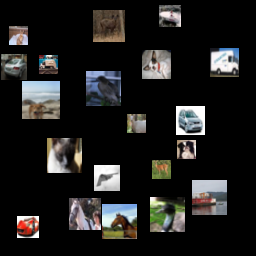airplane: (199, 210, 234, 245), (147, 122, 169, 144)
automobile: (52, 163, 81, 192), (177, 119, 199, 141), (139, 43, 158, 62)
bird: (85, 177, 120, 212), (5, 119, 40, 154), (212, 161, 244, 193)
cat: (154, 63, 192, 101), (213, 80, 235, 102), (58, 79, 74, 95)
dog: (164, 30, 193, 59), (102, 137, 128, 163)
frog: (70, 131, 92, 153)
ship: (2, 190, 34, 222), (1, 82, 27, 108), (40, 28, 66, 54)
